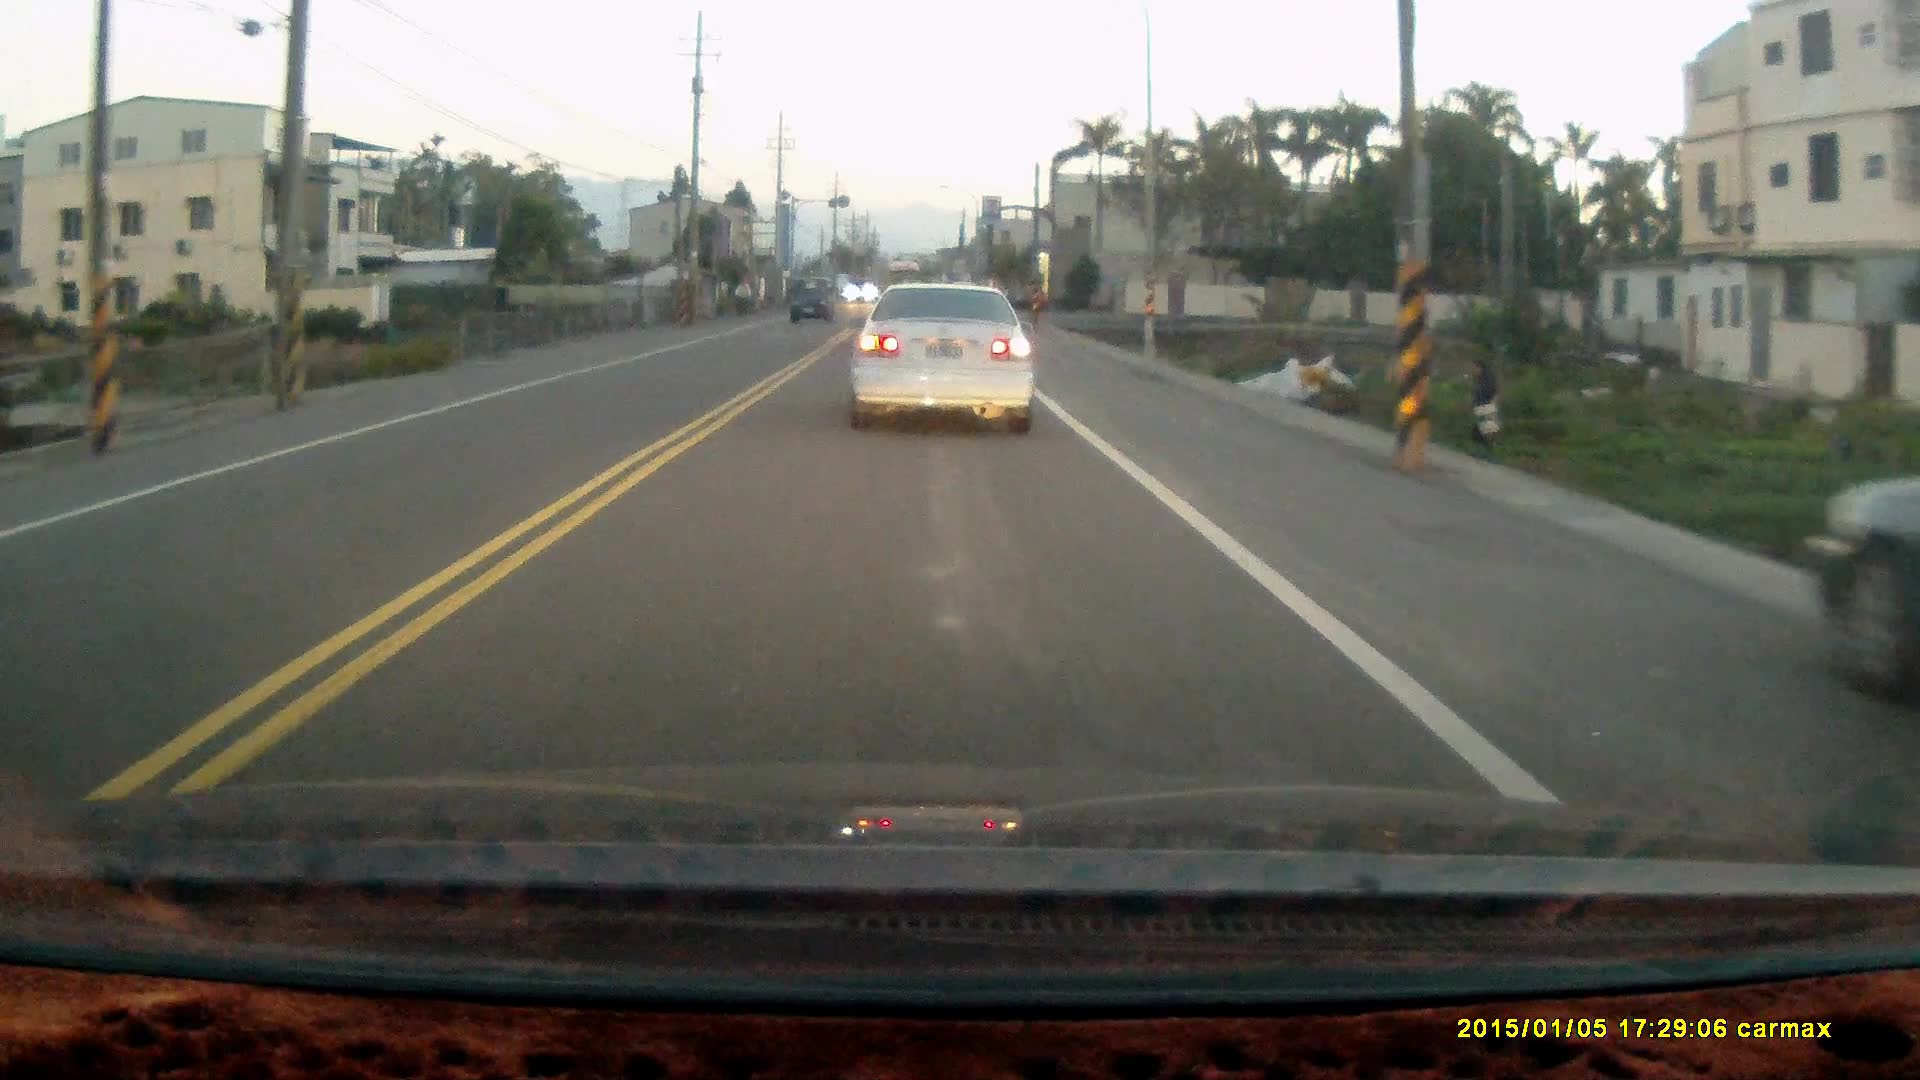pedestrian: (1466, 356, 1503, 447)
rider: (730, 271, 751, 318)
vehicle: (851, 289, 1042, 432), (1812, 471, 1920, 692), (790, 284, 839, 328)
